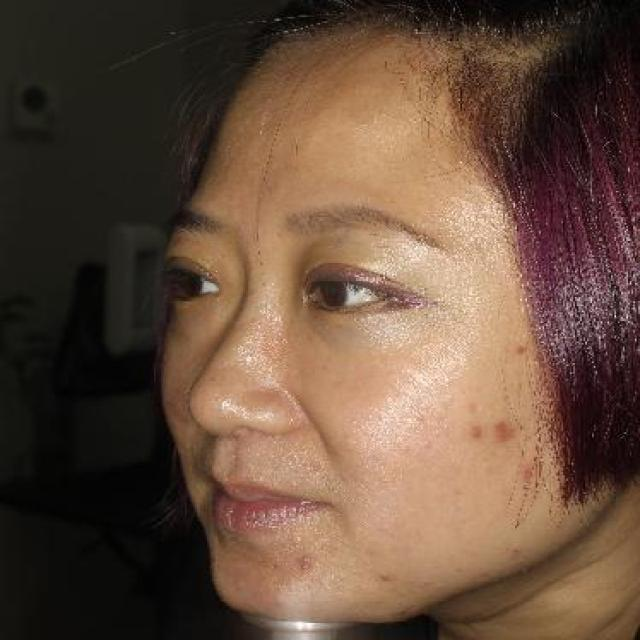dark spot: (492, 414, 524, 448), (462, 422, 495, 443), (510, 342, 536, 362)
pustules: (286, 551, 323, 578), (374, 559, 406, 586)
